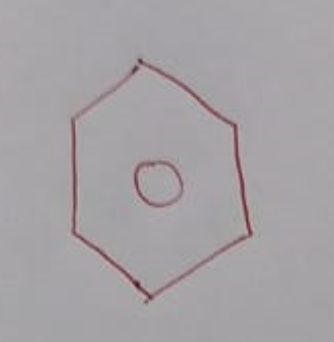shape_mask: (58, 48, 266, 315)
